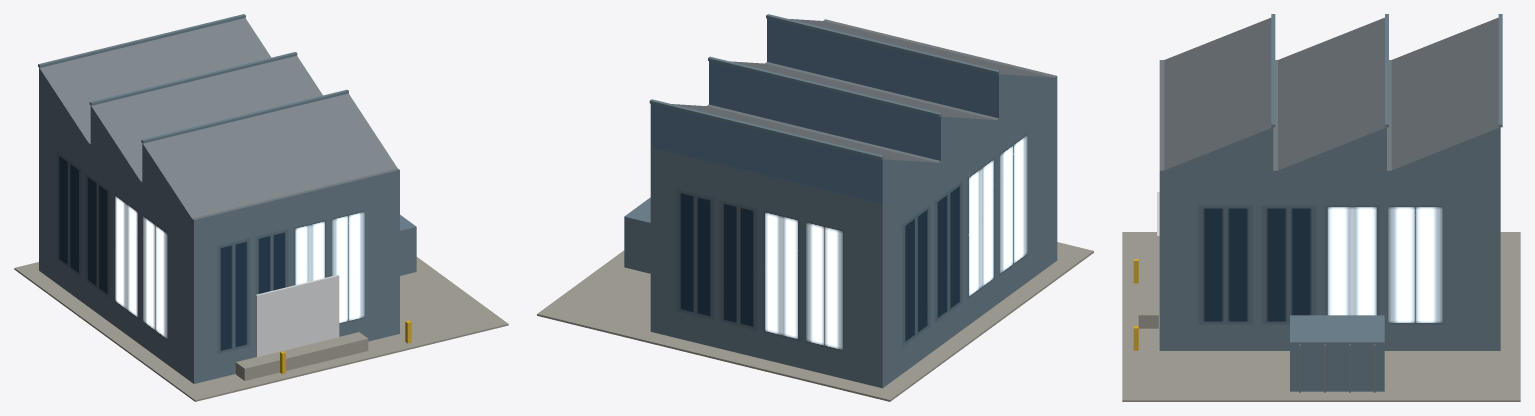
File: i-atlas.glb
3 views of the same model, side by side, from view 1: azimuth 30°, elevation 25°; view 2: azimuth 150°, elevation 25°; view 3: azimuth 270°, elevation 25° (orthographic). The views are drawn at different scales.
Parts seen in each view (by area): view 1: atlas; view 2: atlas; view 3: atlas.
Boxes of the visible parts, x1,y1,x2,y2 form: atlas: (14, 14, 508, 401); atlas: (537, 14, 1093, 401); atlas: (1122, 14, 1520, 401).
Bounding box in the file's own units: 16 × 10.12 × 16.
Materials: 1 (1 with a texture image).
